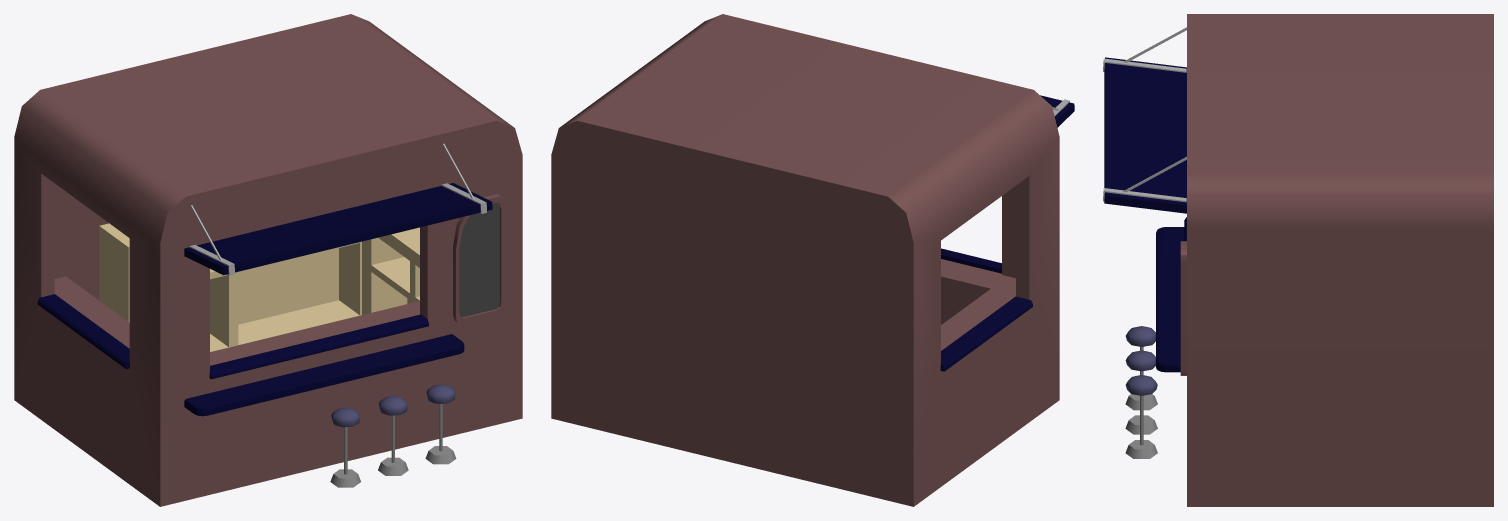
The model's file is Foodstand_07.fbx.
3 renders of one model, left to right at view 1: azimuth 30°, elevation 25°; view 2: azimuth 150°, elevation 25°; view 3: azimuth 270°, elevation 25°, orthographic. The views are drawn at different scales.
Visible parts, largest first — view 1: FoodStand_07; view 2: FoodStand_07; view 3: FoodStand_07.
Part boxes in pixels (x1,y1,x2,y2): FoodStand_07: (14,14,522,506); FoodStand_07: (551,14,1074,506); FoodStand_07: (1103,14,1493,506).
Size of the model in its own units: 1669 by 1325 by 1467.
